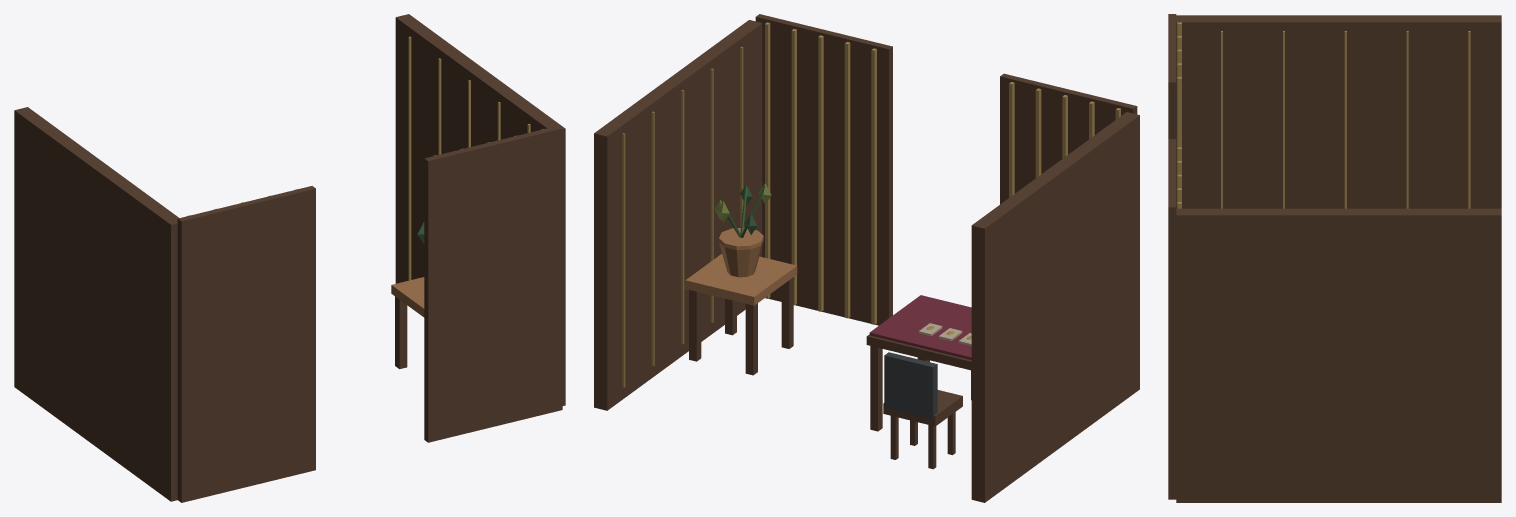
File: tarot.glb
3 views of the same model, side by side, from view 1: azimuth 30°, elevation 25°; view 2: azimuth 150°, elevation 25°; view 3: azimuth 270°, elevation 25° (orthographic). The views are drawn at different scales.
Visible parts, largest first — view 1: tarot; view 2: tarot; view 3: tarot.
Part boxes in pixels (x1,y1,x2,y2): tarot: (14, 14, 565, 502); tarot: (594, 14, 1139, 502); tarot: (1168, 14, 1501, 502).
Bounding box in the file's own units: 3.52 × 2.4 × 2.48.
